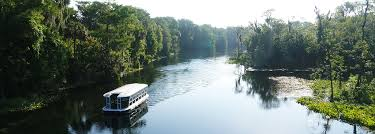boat: (103, 82, 149, 111)
